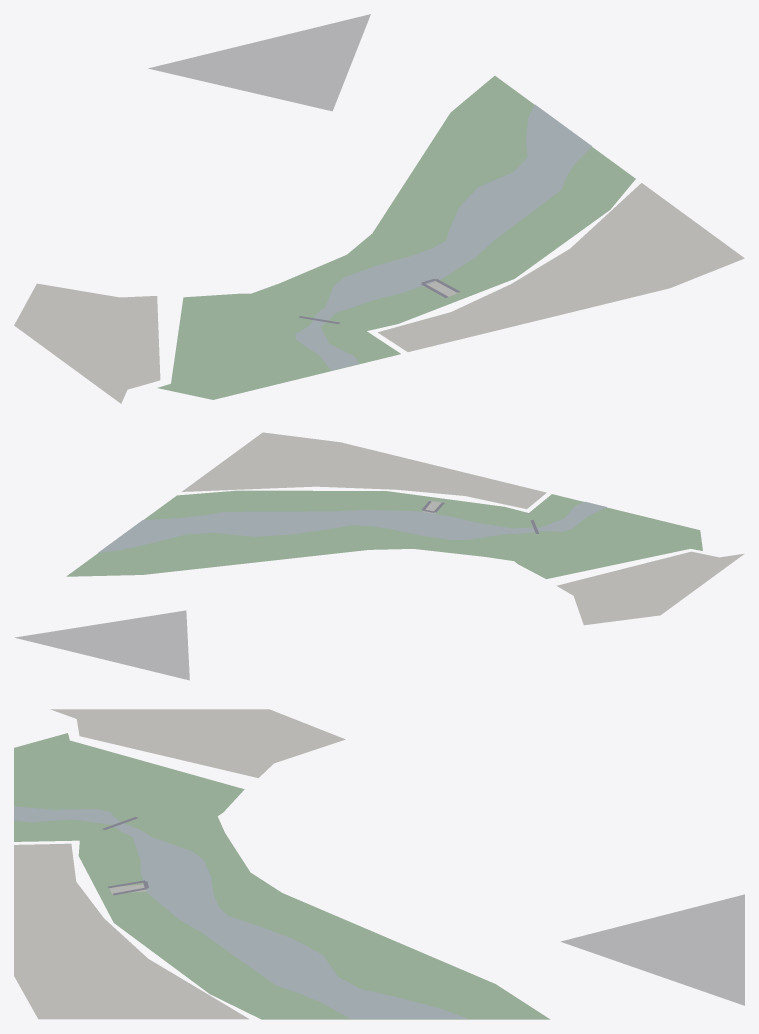
Rendered from 100_114_mid.glb.
3 views of the same model, one above another, from view 1: azimuth 30°, elevation 25°; view 2: azimuth 150°, elevation 25°; view 3: azimuth 270°, elevation 25° (orthographic). The views are drawn at different scales.
Size of the model in its own units: 500 by 3.31 by 500.
